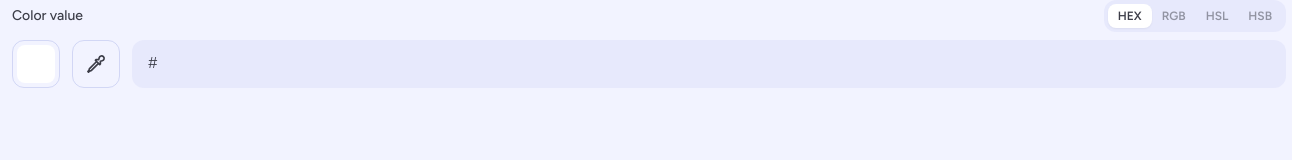
it: ColorInput › screen eyedropper › samples the screen and feeds the picked color through, in the active format
The image size is (1292, 160).
Click the button named "pick a color from the screen" at (96, 64), box [72, 40, 120, 88]
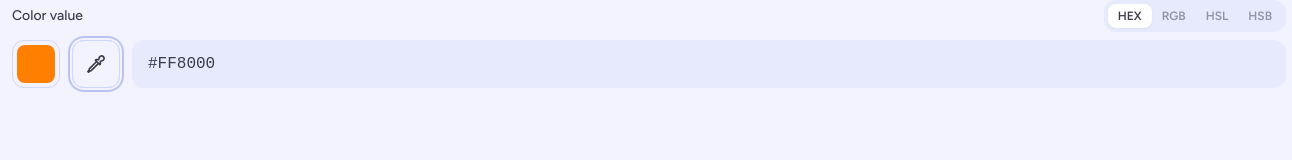
Expected: the field labelled "Color value" holds "#FF8000", [132, 40, 1286, 88]
